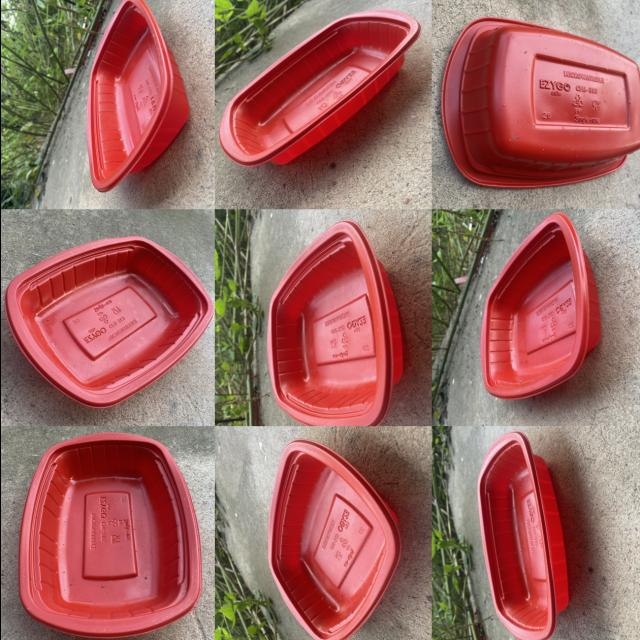plastik: (19, 432, 200, 638), (5, 236, 212, 408), (440, 18, 640, 188), (218, 9, 420, 166), (266, 220, 402, 426), (268, 440, 399, 640), (480, 214, 599, 399), (86, 0, 188, 192), (476, 431, 568, 640)
